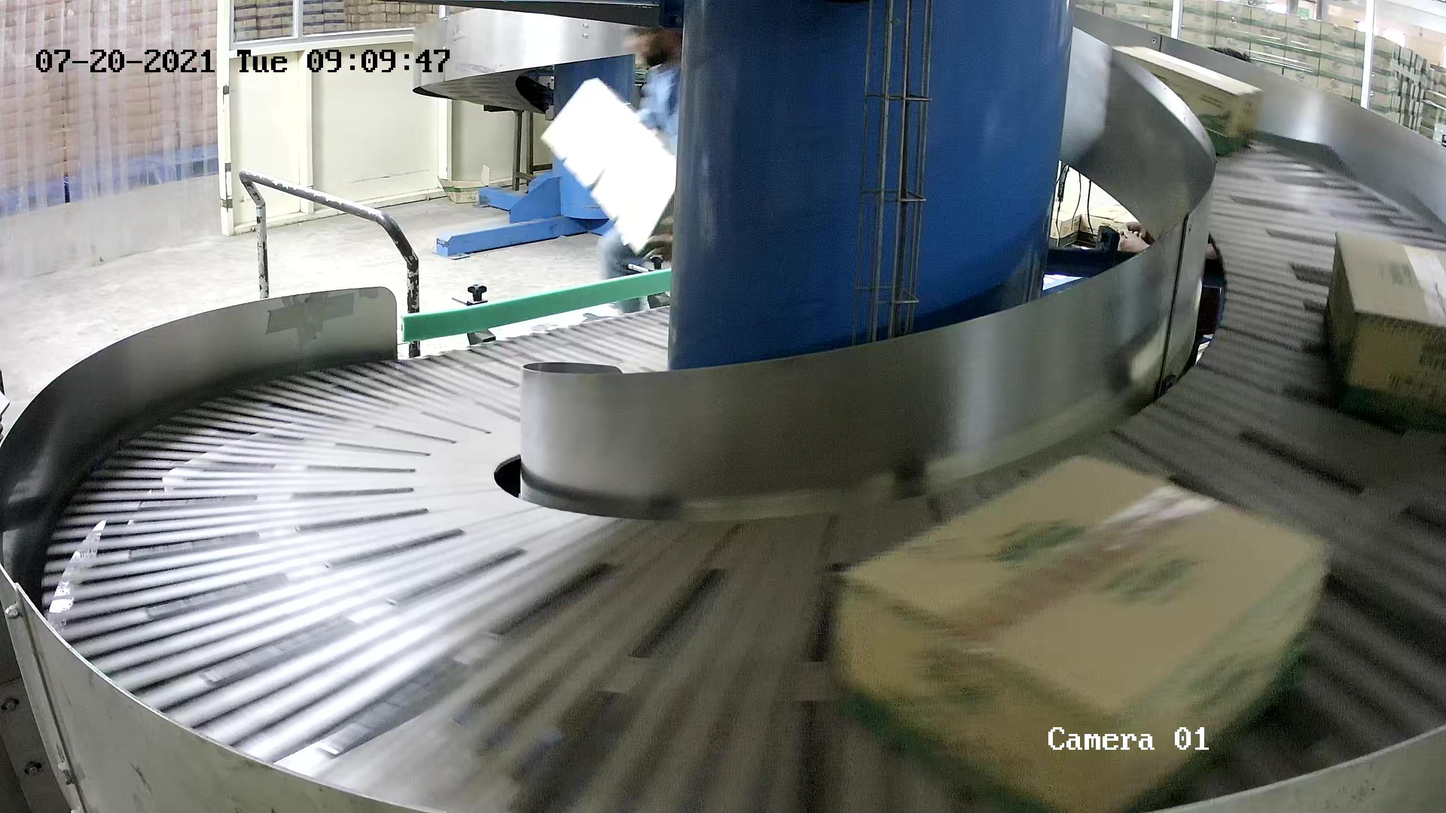Box: (824, 450, 1335, 813), (1324, 228, 1446, 431), (1105, 44, 1264, 157)
